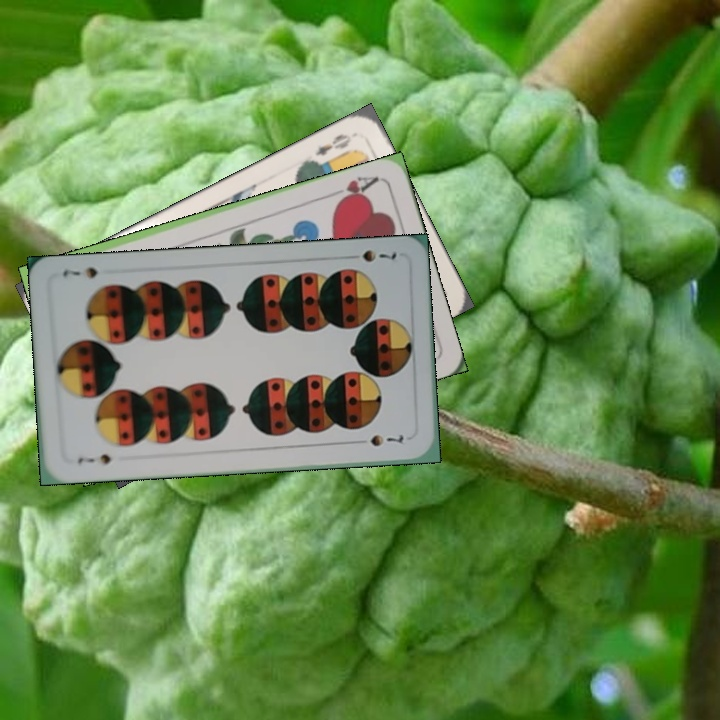EO: (310, 129, 354, 159)
HA: (325, 172, 382, 207)
S7: (343, 246, 399, 265), (73, 450, 113, 467)
